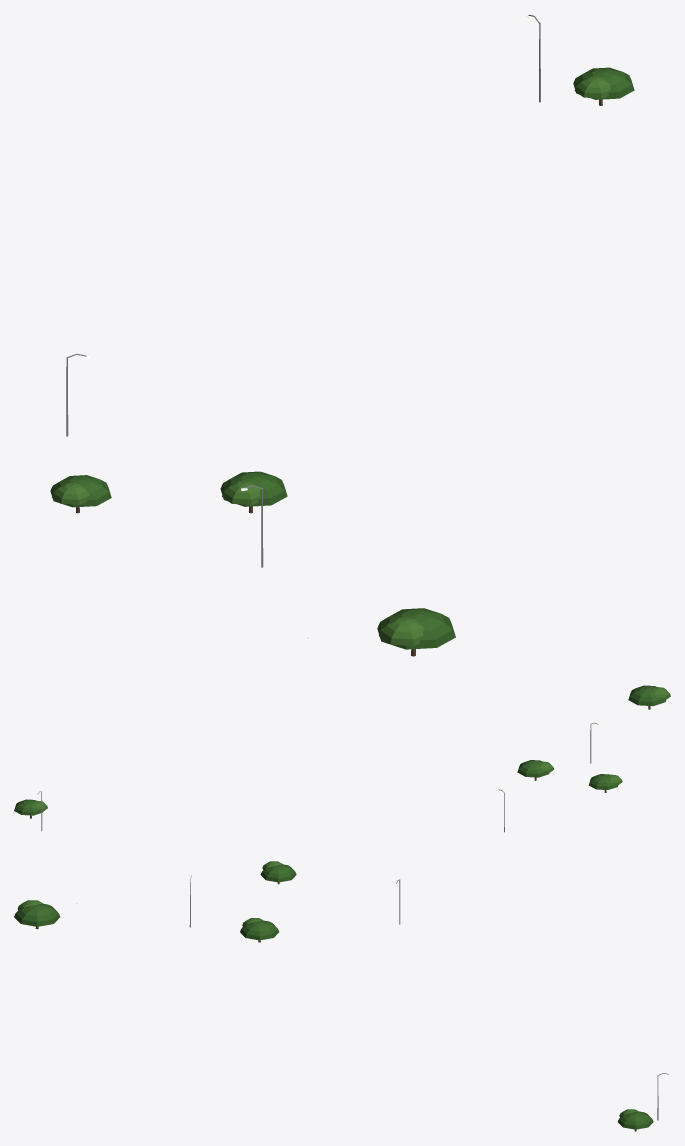
File: pb_jei_0.glb
3 views of the same model, one above another, from view 1: azimuth 30°, elevation 25°; view 2: azimuth 150°, elevation 25°; view 3: azimuth 270°, elevation 25° (orthographic). The views are drawn at different scales.
Visible parts, largest first — view 1: pb_jei_0_lod0; view 2: pb_jei_0_lod0; view 3: pb_jei_0_lod0.
Boxes of the visible parts, box(x1,y1,x2,y2) form: pb_jei_0_lod0: box(50, 14, 634, 656); pb_jei_0_lod0: box(14, 685, 670, 832); pb_jei_0_lod0: box(14, 861, 670, 1131).
Size of what is drawn, in the model's own units: 116 by 10.71 by 129.
